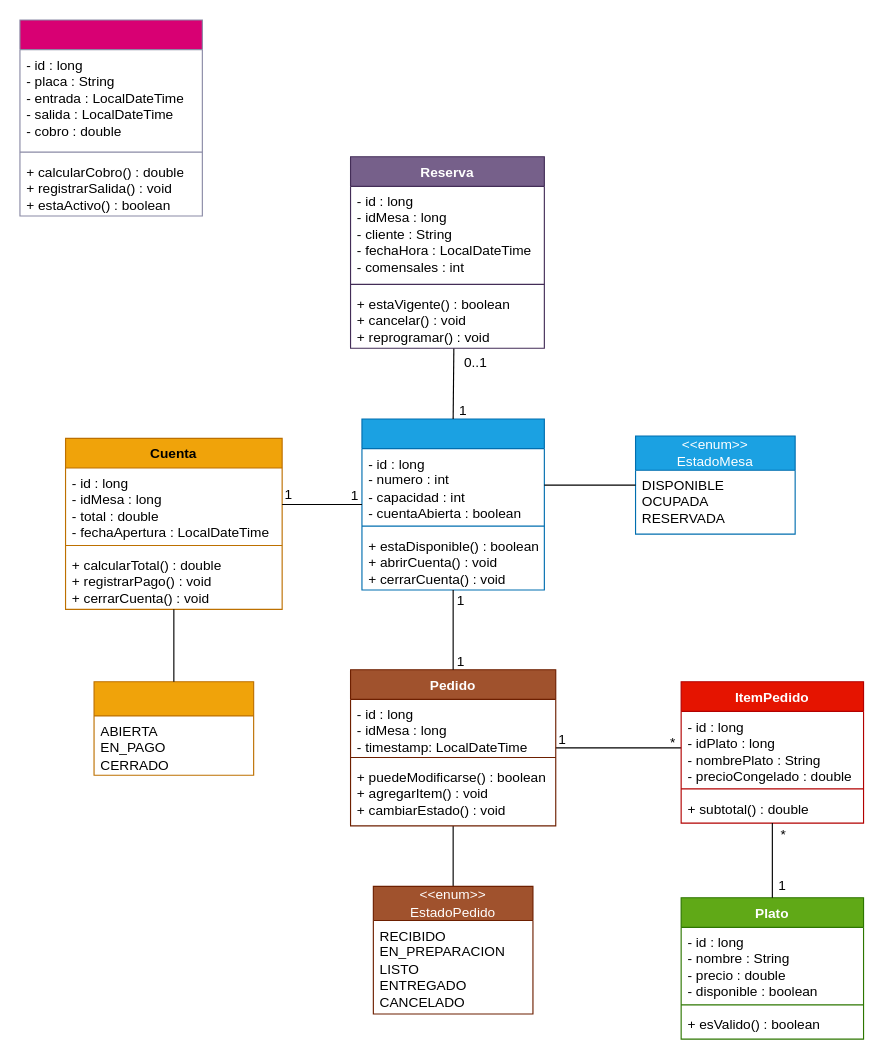
Image size: 884x1062. Some labels were removed from this diagram. The shapes that lost their labels are listed below. From the top down, each one's box as (x1, y1, x2, y2) in pixels, then its label:
(19, 19, 202, 216): RegistroVehiculo
(361, 418, 544, 590): Mesa
(93, 681, 254, 775): <<enum>> EstadoCuenta
